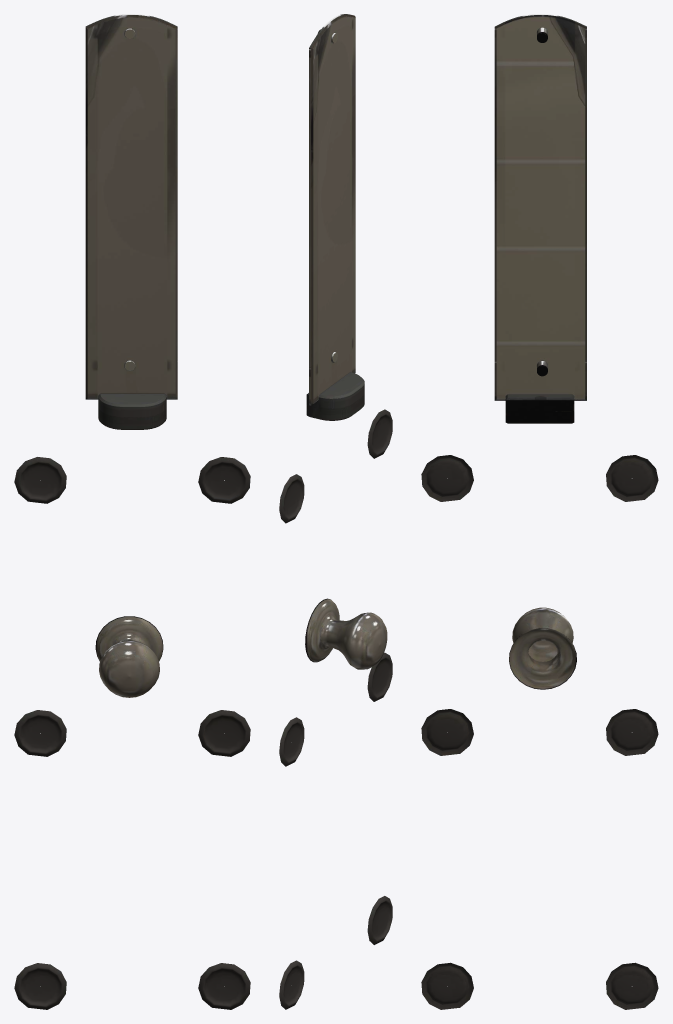
File: 2014_WSJ_JJ_26.FBX
3 renders of one model, left to right at view 1: azimuth 90°, elevation 25°; view 2: azimuth 150°, elevation 25°; view 3: azimuth 270°, elevation 25°, orthographic. The views are drawn at different scales.
Parts seen in each view (by area): view 1: 2014_WSJ_JJ_26; view 2: 2014_WSJ_JJ_26; view 3: 2014_WSJ_JJ_26.
Boxes of the visible parts, x1,y1,x2,y2 form: 2014_WSJ_JJ_26: (14,14,250,1009); 2014_WSJ_JJ_26: (279,14,392,1009); 2014_WSJ_JJ_26: (421,14,658,1009).
Bounding box in the file's own units: 0.0785 × 1.19 × 0.2556.
